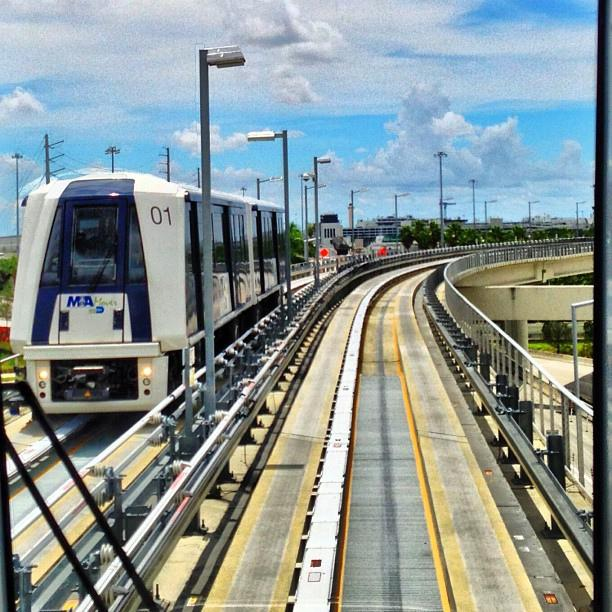Train: (10, 170, 291, 413)
